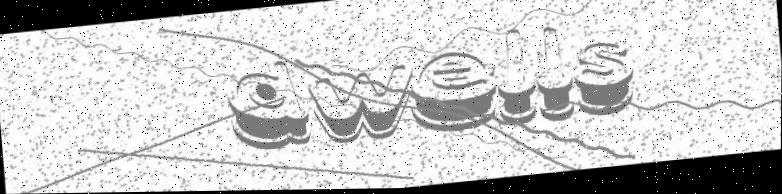d: (216, 54, 314, 152)
e: (405, 49, 504, 136)
l: (487, 30, 538, 125), (533, 22, 578, 119)
s: (570, 38, 637, 116)
w: (301, 65, 418, 146)
